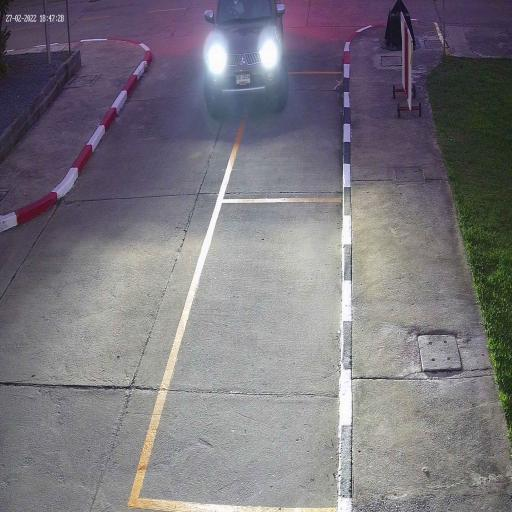car: (203, 0, 286, 119)
